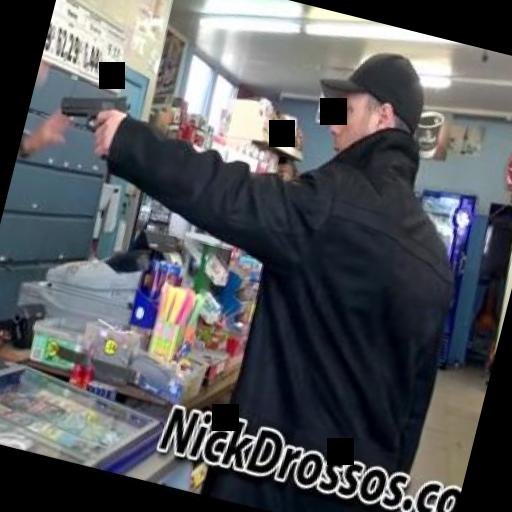Handgun: (46, 80, 134, 162)
